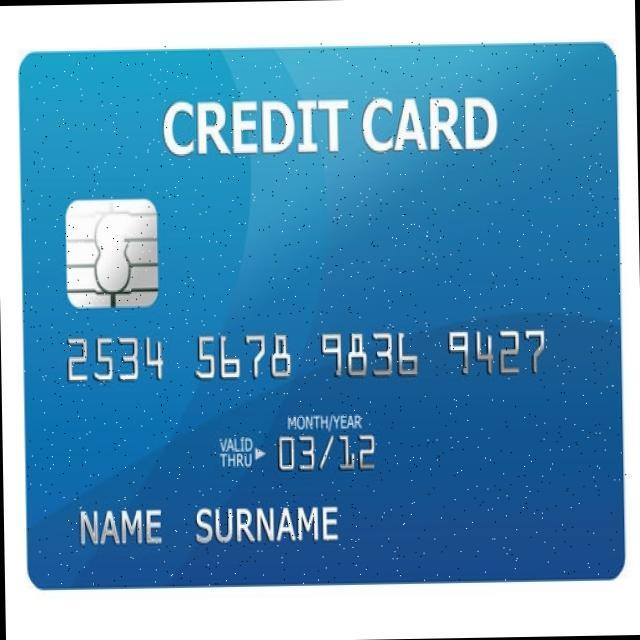payment_card: (18, 42, 624, 588)
